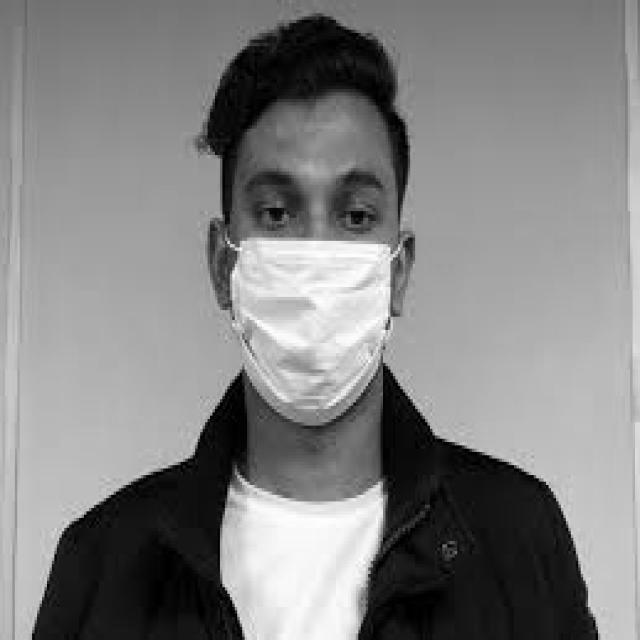fake: (212, 232, 409, 433)
real: (228, 93, 400, 440)
